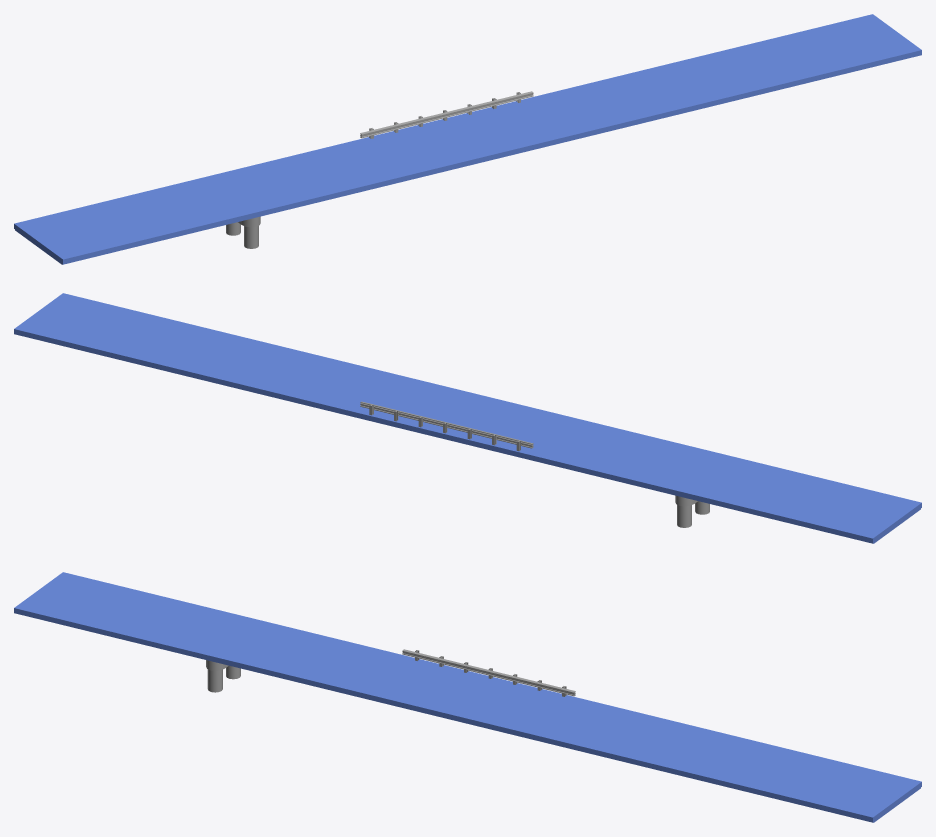
The model's file is OverpassGroup1.fbx.
The picture shows the model from 3 angles, top to bottom: view 1: azimuth 30°, elevation 25°; view 2: azimuth 150°, elevation 25°; view 3: azimuth 330°, elevation 25°; orthographic projection.
Visible parts, largest first — view 1: overpassRoad, overpassRails, overpassSupport; view 2: overpassRoad, overpassRails, overpassSupport; view 3: overpassRoad, overpassRails, overpassSupport.
Part boxes in pixels (bbox=[...]): overpassRoad: bbox=[14, 14, 921, 264]; overpassRails: bbox=[360, 91, 533, 138]; overpassSupport: bbox=[226, 216, 260, 248]; overpassRoad: bbox=[14, 293, 921, 543]; overpassRails: bbox=[360, 401, 533, 451]; overpassSupport: bbox=[675, 495, 709, 527]; overpassRoad: bbox=[14, 572, 921, 822]; overpassRails: bbox=[402, 649, 575, 696]; overpassSupport: bbox=[206, 660, 240, 692].
Bounding box in the file's own units: 1050 × 55.99 × 104.
